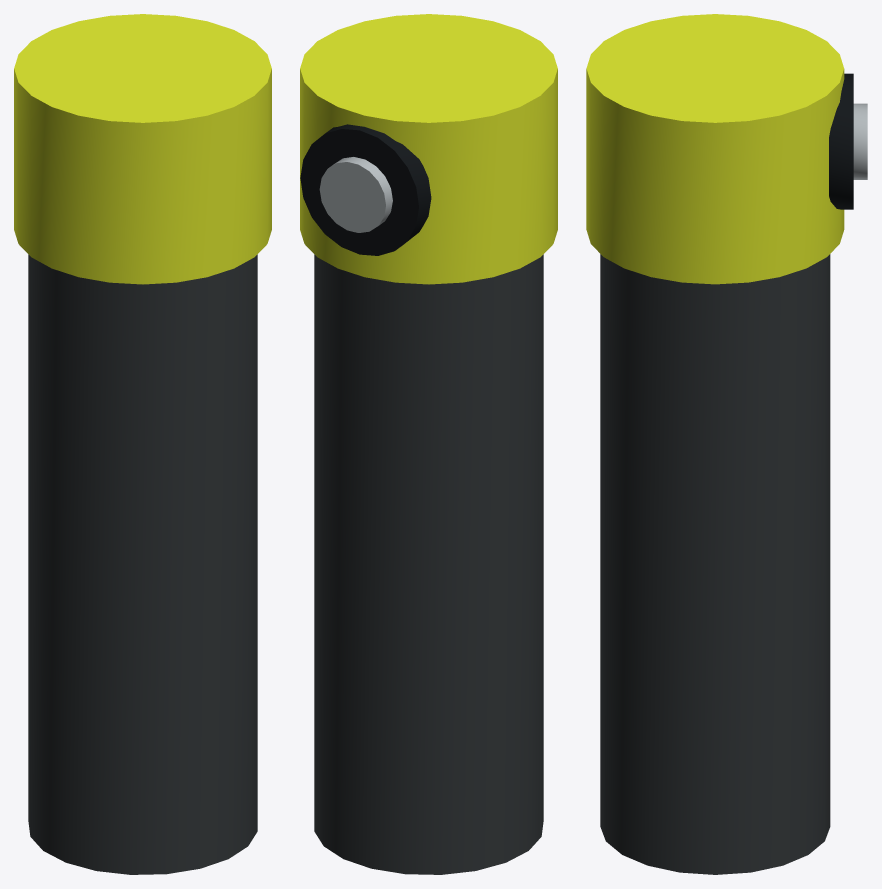
The model's file is cabin_lamp_left_1.glb.
3 renders of one model, left to right at view 1: azimuth 30°, elevation 25°; view 2: azimuth 150°, elevation 25°; view 3: azimuth 270°, elevation 25°, orthographic.
Parts seen in each view (by area): view 1: cabin_lamp_left_1; view 2: cabin_lamp_left_1; view 3: cabin_lamp_left_1.
Boxes of the visible parts, bbox=[...] form: cabin_lamp_left_1: bbox=[14, 14, 271, 874]; cabin_lamp_left_1: bbox=[300, 14, 557, 874]; cabin_lamp_left_1: bbox=[586, 14, 867, 874].
Bounding box in the file's own units: 0.094 × 0.305 × 0.1025.
